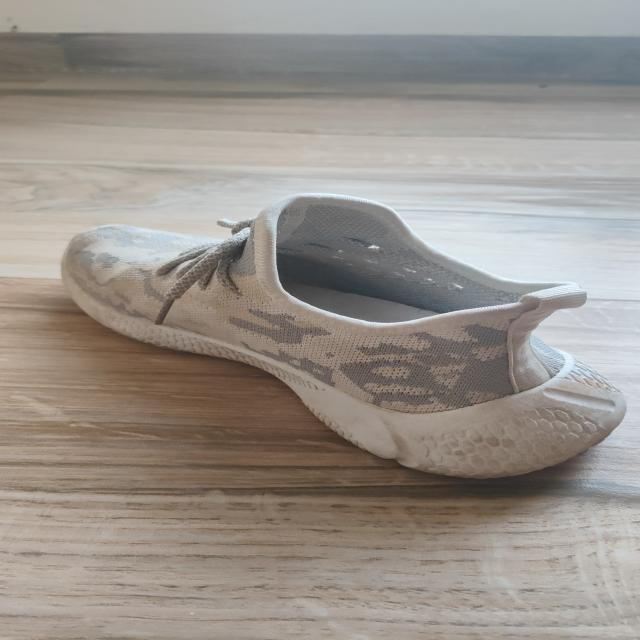shoes: (60, 192, 627, 479)
